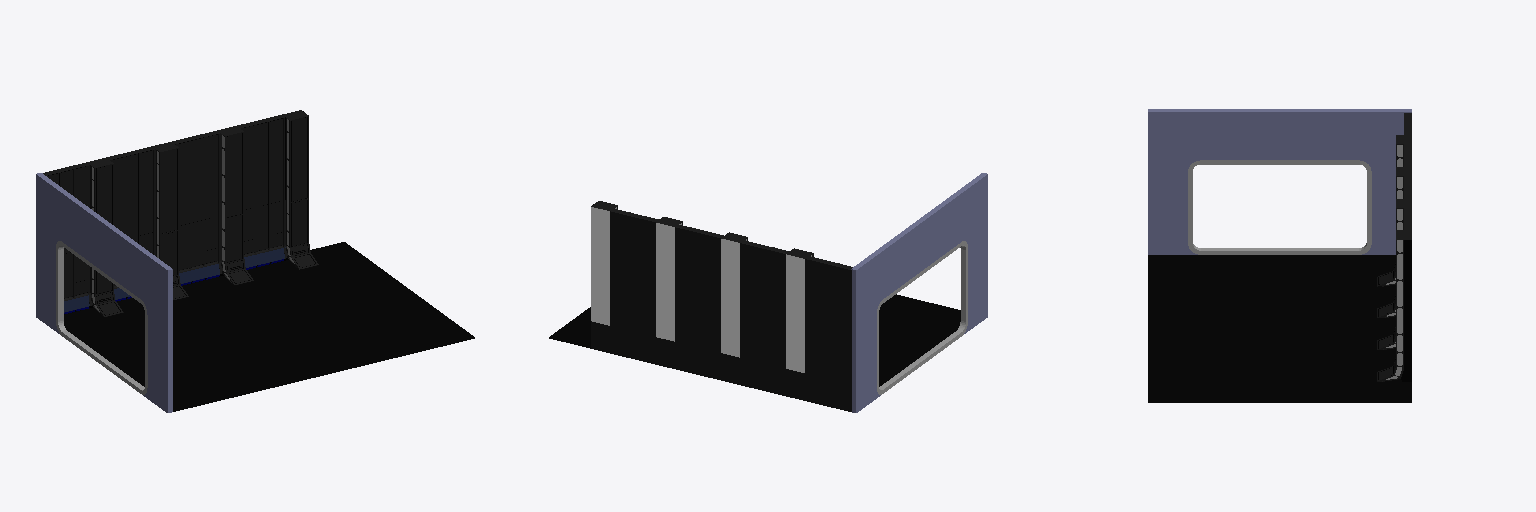
File: Hangar.obj
3 views of the same model, side by side, from view 1: azimuth 30°, elevation 25°; view 2: azimuth 150°, elevation 25°; view 3: azimuth 270°, elevation 25° (orthographic).
Visible parts, largest first — view 1: SketchUp_ID3, SketchUp_ID461.002, SketchUp_ID461.003, SketchUp_ID461.001, SketchUp_ID461; view 2: SketchUp_ID3, SketchUp_ID461, SketchUp_ID461.003, SketchUp_ID461.001, SketchUp_ID461.002; view 3: SketchUp_ID3, SketchUp_ID461.003, SketchUp_ID461.001, SketchUp_ID461, SketchUp_ID461.002.
Boxes of the visible parts, x1,y1,x2,y2 form: SketchUp_ID3: [36, 173, 474, 412]; SketchUp_ID461.002: [171, 126, 253, 285]; SketchUp_ID461.003: [236, 110, 318, 269]; SketchUp_ID461.001: [106, 142, 188, 301]; SketchUp_ID461: [43, 158, 123, 316]; SketchUp_ID3: [549, 173, 987, 412]; SketchUp_ID461: [786, 248, 852, 411]; SketchUp_ID461.003: [591, 201, 659, 364]; SketchUp_ID461.001: [721, 232, 789, 395]; SketchUp_ID461.002: [656, 217, 723, 379]; SketchUp_ID3: [1148, 109, 1411, 402]; SketchUp_ID461.003: [1377, 208, 1411, 381]; SketchUp_ID461.001: [1377, 144, 1411, 317]; SketchUp_ID461: [1377, 113, 1411, 286]; SketchUp_ID461.002: [1377, 176, 1411, 349].
Size of the model in its own units: 53.87 by 23.86 by 39.91.